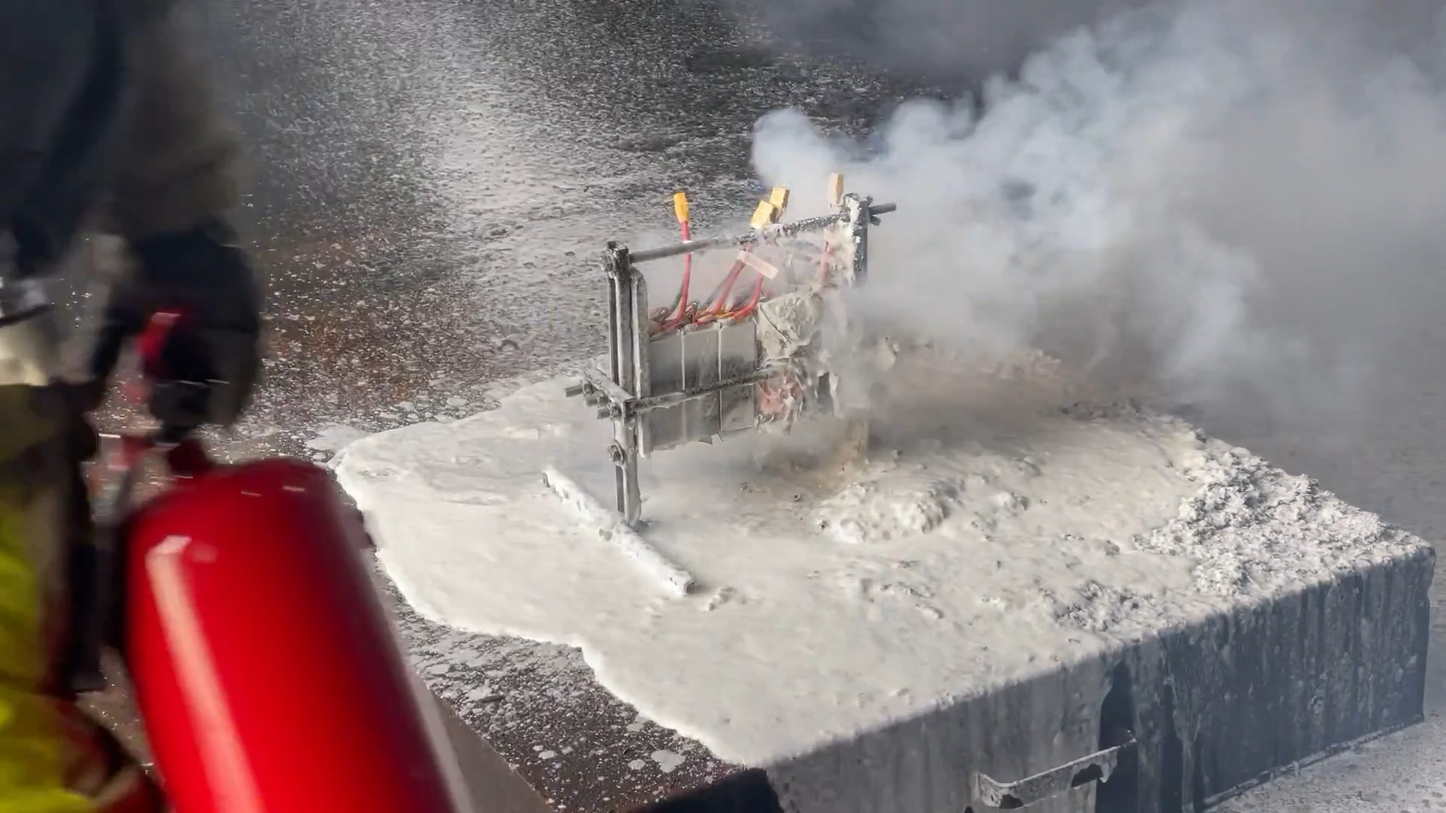smoke: (748, 5, 1446, 457)
